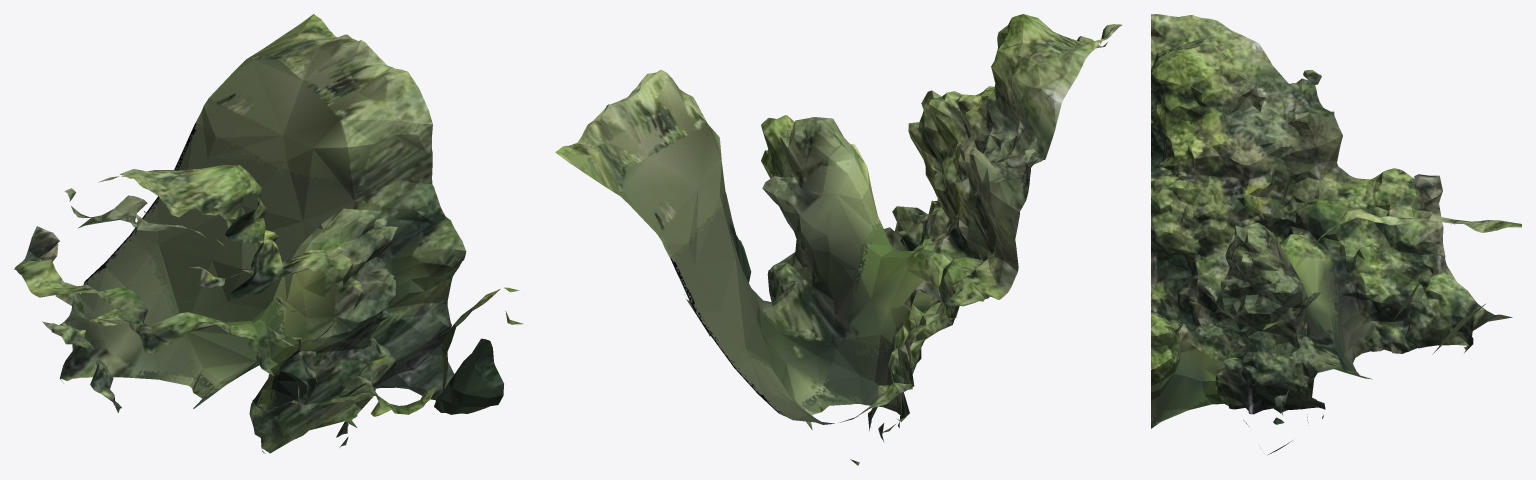
3 views of the same model, side by side, from view 1: azimuth 30°, elevation 25°; view 2: azimuth 150°, elevation 25°; view 3: azimuth 270°, elevation 25° (orthographic). The views are drawn at different scales.
Size of the model in its own units: 52.22 by 45.91 by 52.22.
Materials: 5 (5 with a texture image).
